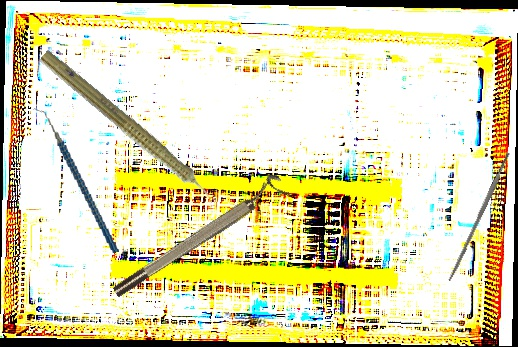Chopper: (31, 99, 119, 262)
Fixation Ring: (105, 171, 291, 301)
Handpiece: (33, 46, 228, 216)
Scalpel Handle: (446, 151, 513, 283)
